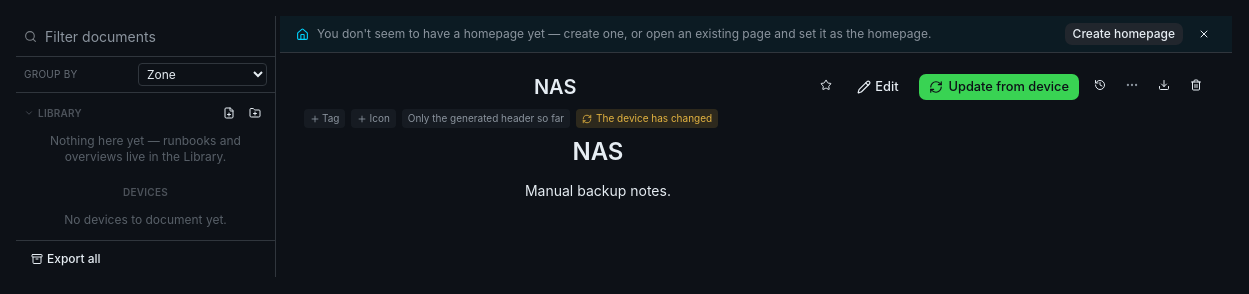
Test: DocumentationView — update from device › does not apply a preview that finishes after navigation
Click the button "Update from device" at (999,87), box [918,73,1080,101]
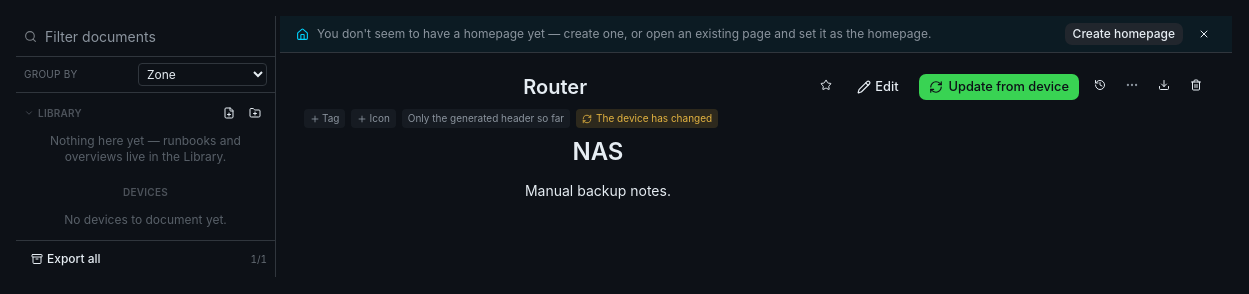
expect the heading "Router" is shown: met, box [523,75,587,99]
